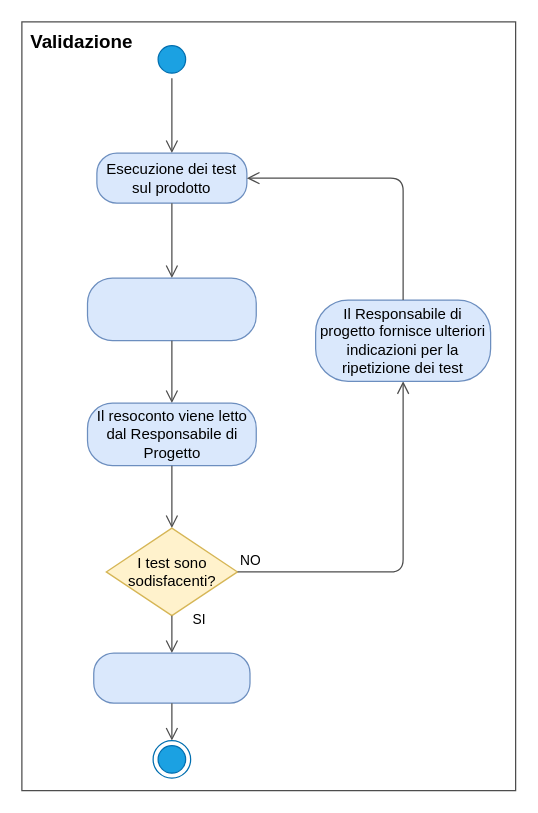
This 538x813 diagram has some shape labels left out. The shapes that lost their labels are listed below. From the top down, each one's centre as x and y in pixels, then its label:
the point at 171,309: I Verificatori stendono un resoconto sui risultati dei test
the point at 171,677: I risultati vengono inviati alla proponente
